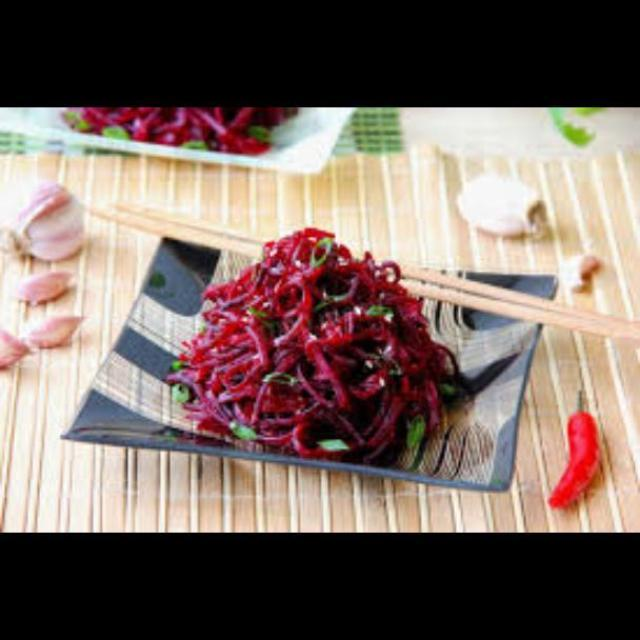beet: (172, 228, 440, 450), (68, 105, 314, 163)
garlic: (441, 157, 557, 246), (3, 184, 92, 264), (24, 296, 90, 359), (4, 266, 84, 310), (0, 320, 36, 375)
hot pepper: (542, 398, 606, 530)
